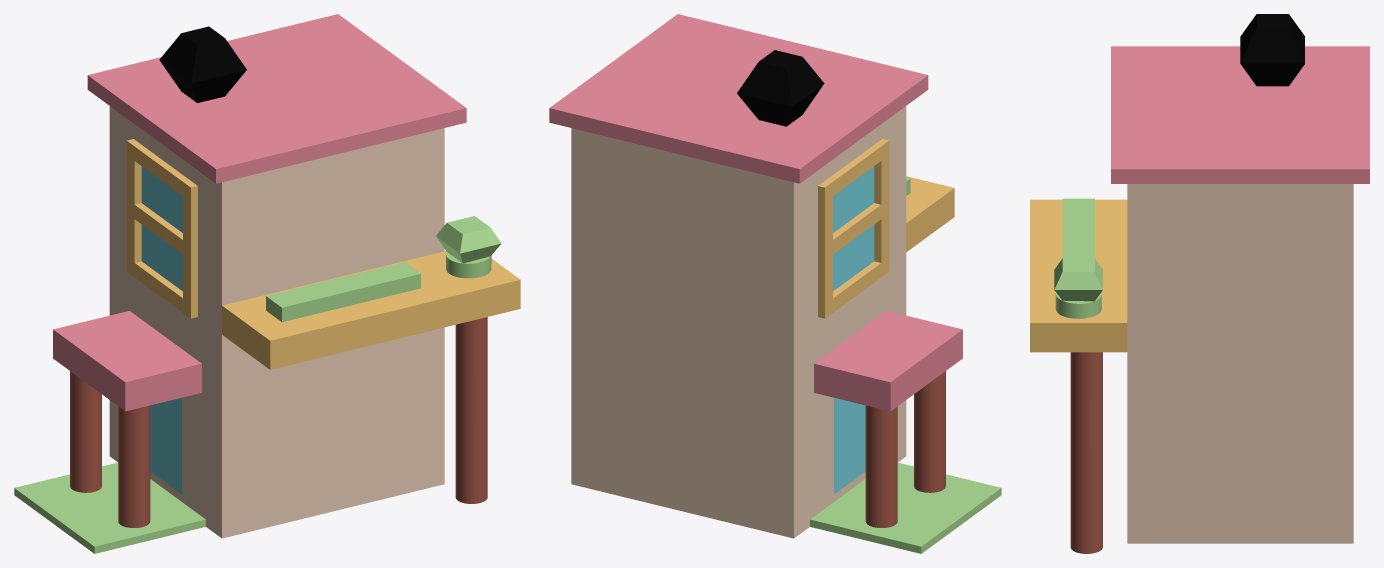
The model's file is fangjian3.obj.
The picture shows the model from 3 angles, left to right: view 1: azimuth 30°, elevation 25°; view 2: azimuth 150°, elevation 25°; view 3: azimuth 270°, elevation 25°; orthographic projection.
Bounding box in the file's own units: 2.6 × 3 × 2.1.
